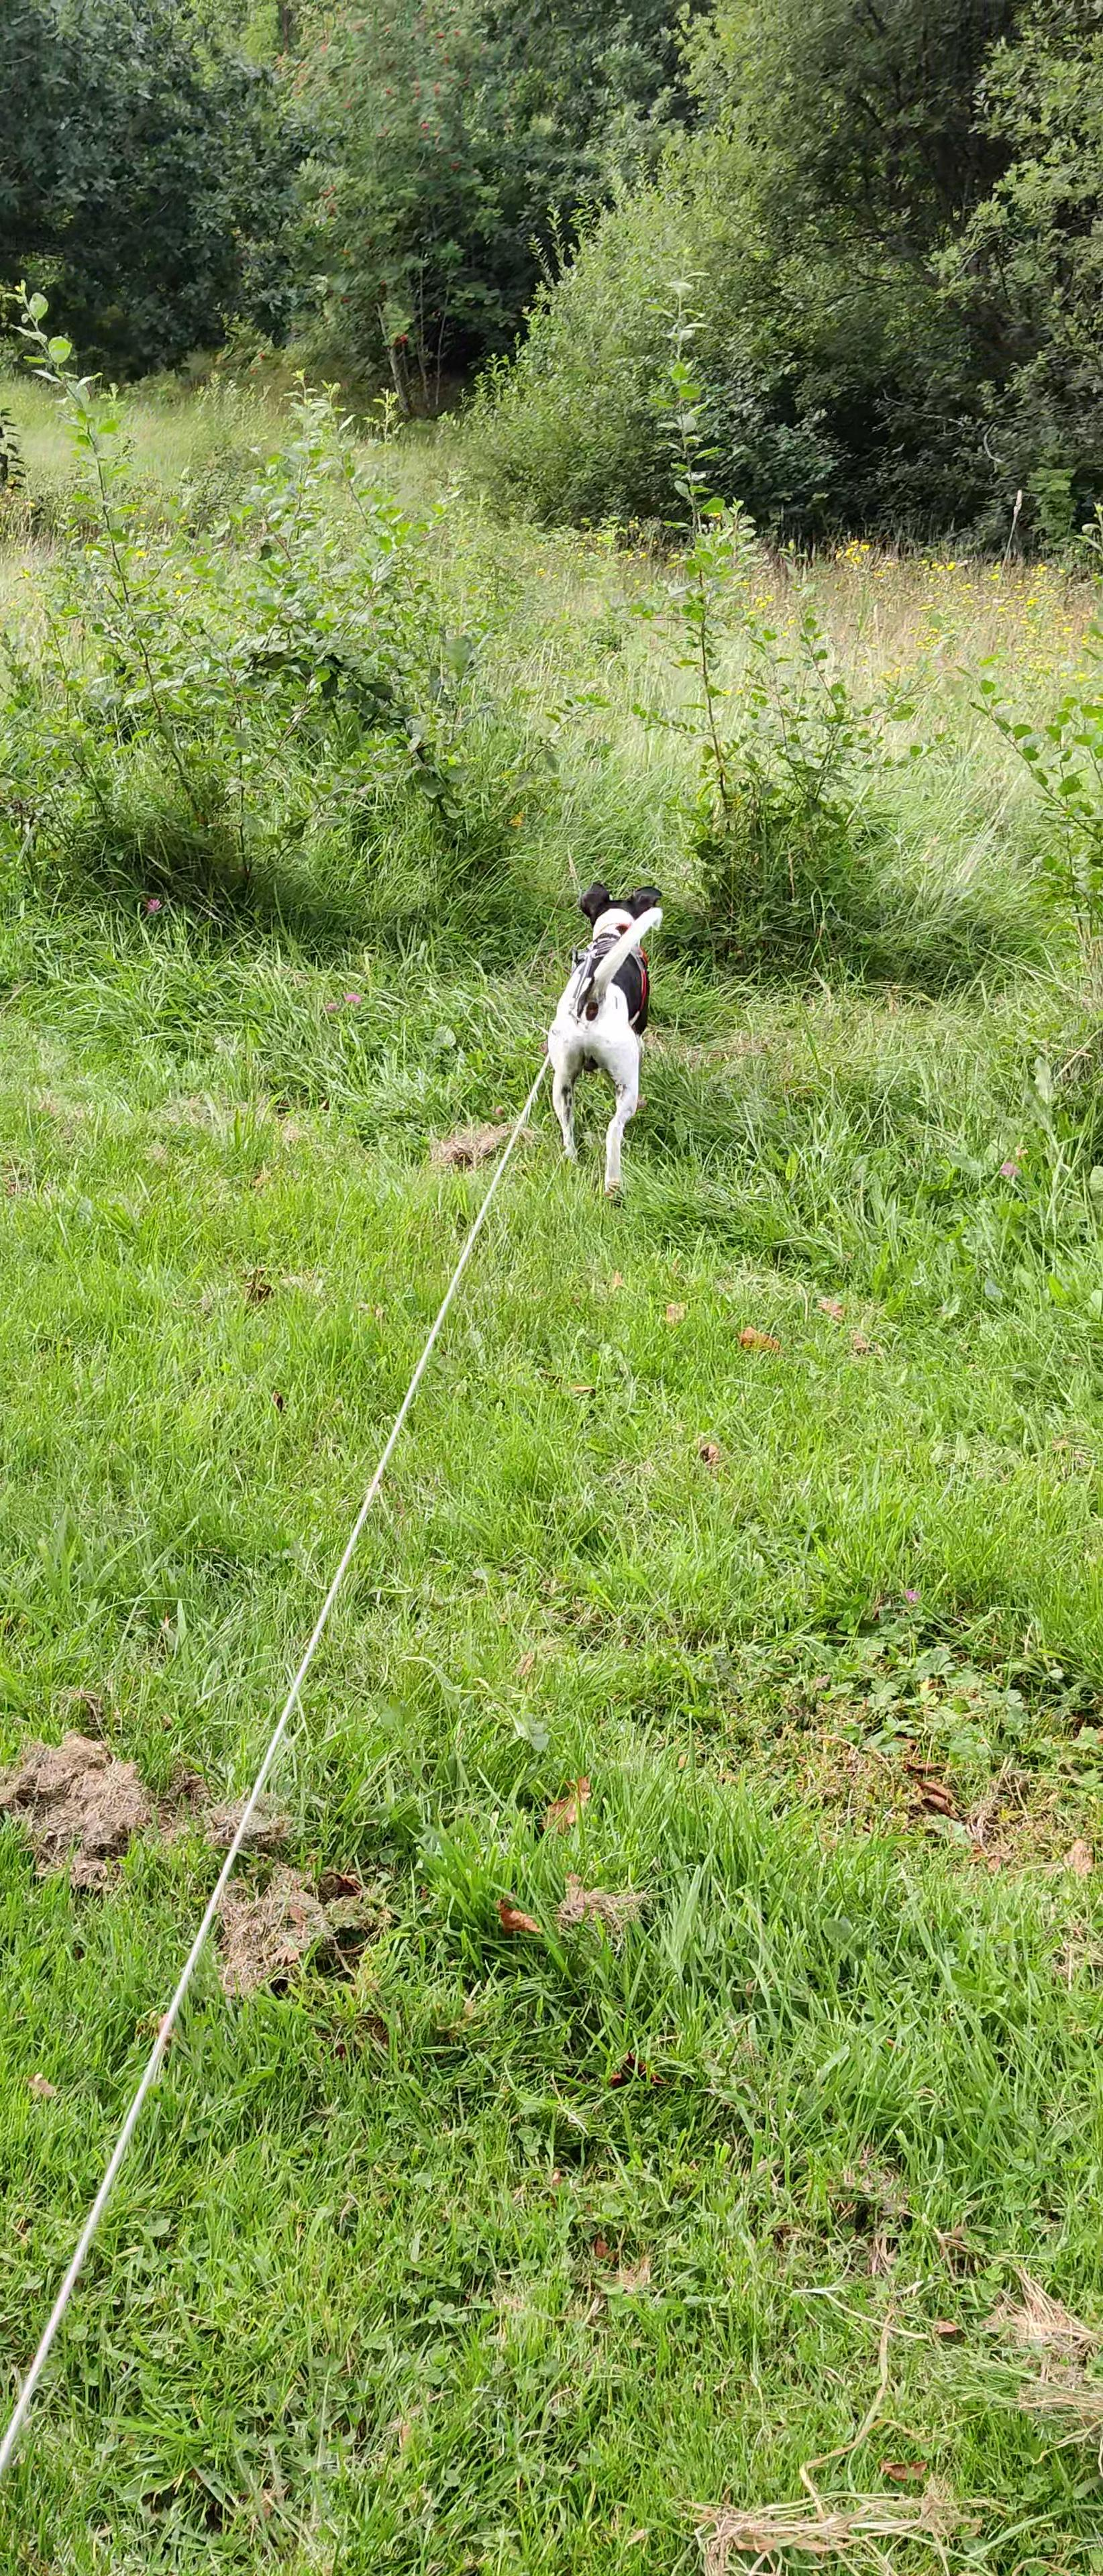Dog: (516, 864, 682, 1214)
